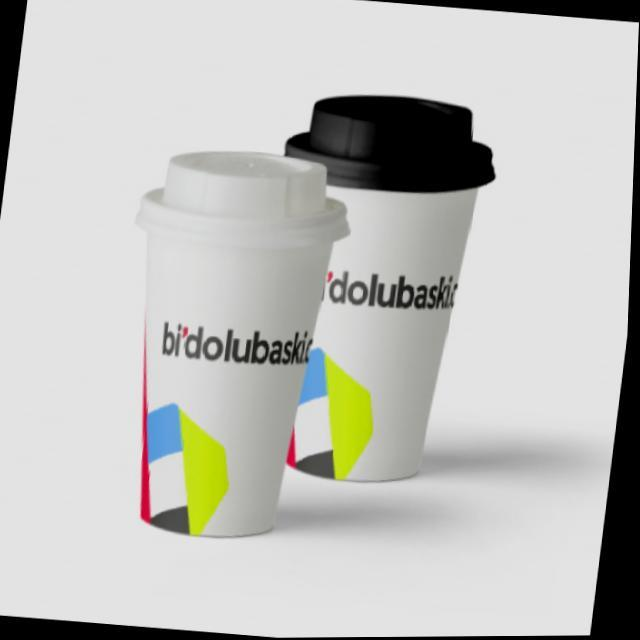cup: (101, 132, 351, 584)
